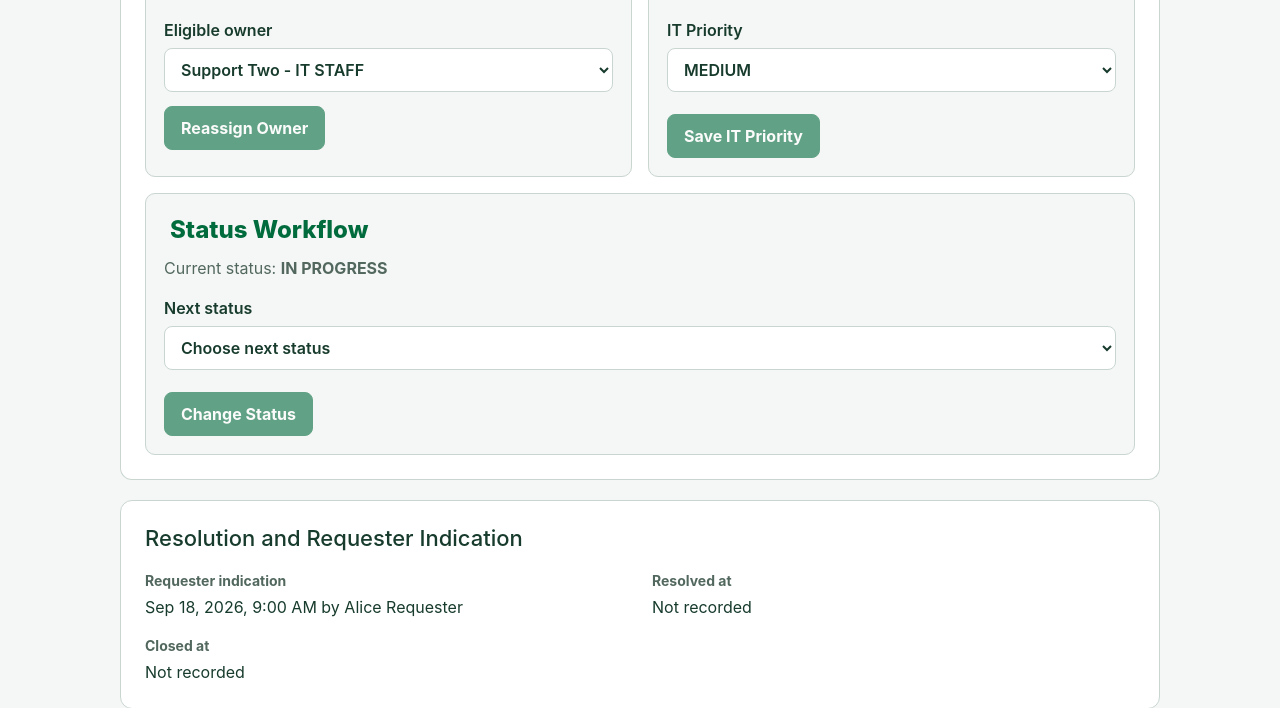
Scenario: UI-06 integrated Staff Ticket Detail › validates and confirms RESOLVED with the public Resolution Summary
The width and height of the screenshot is (1280, 708).
(page scrolled)
Select "RESOLVED" in the dropdown labelled "Next status" at (640, 348), box [164,326,1116,370]
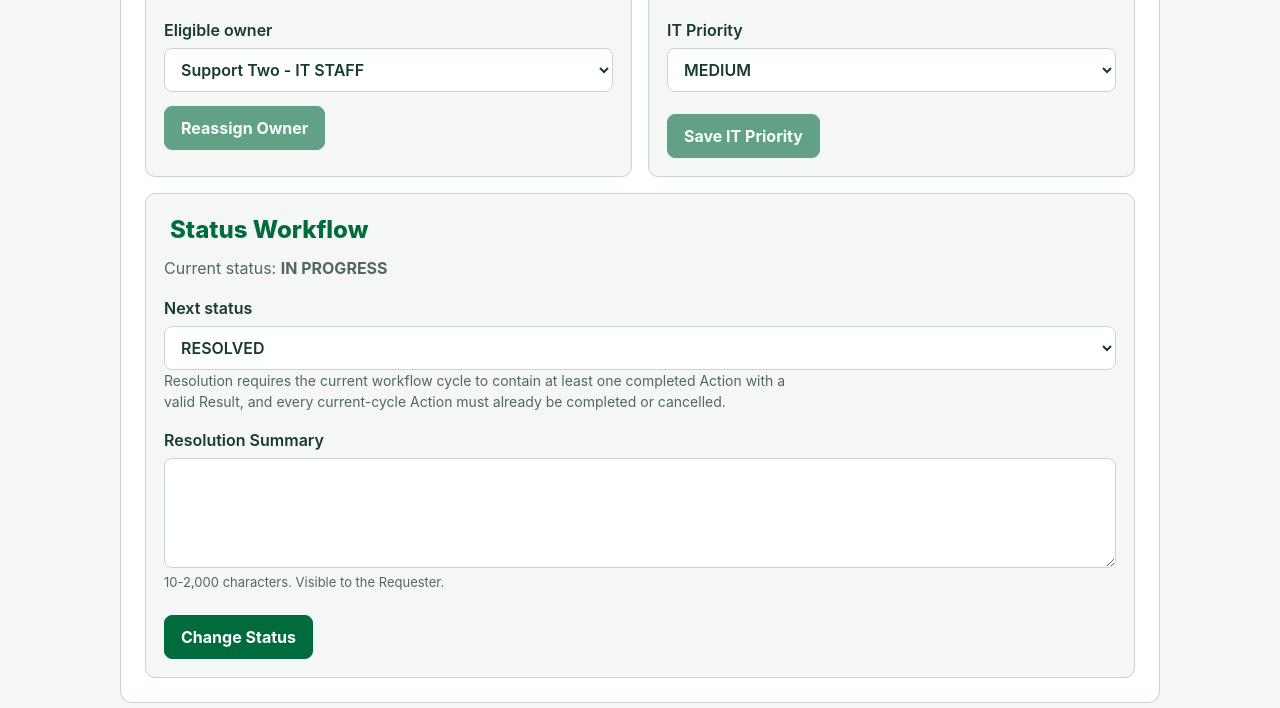
Type "short" into the text box labelled "Resolution Summary" at (640, 513), box [164,458,1116,568]
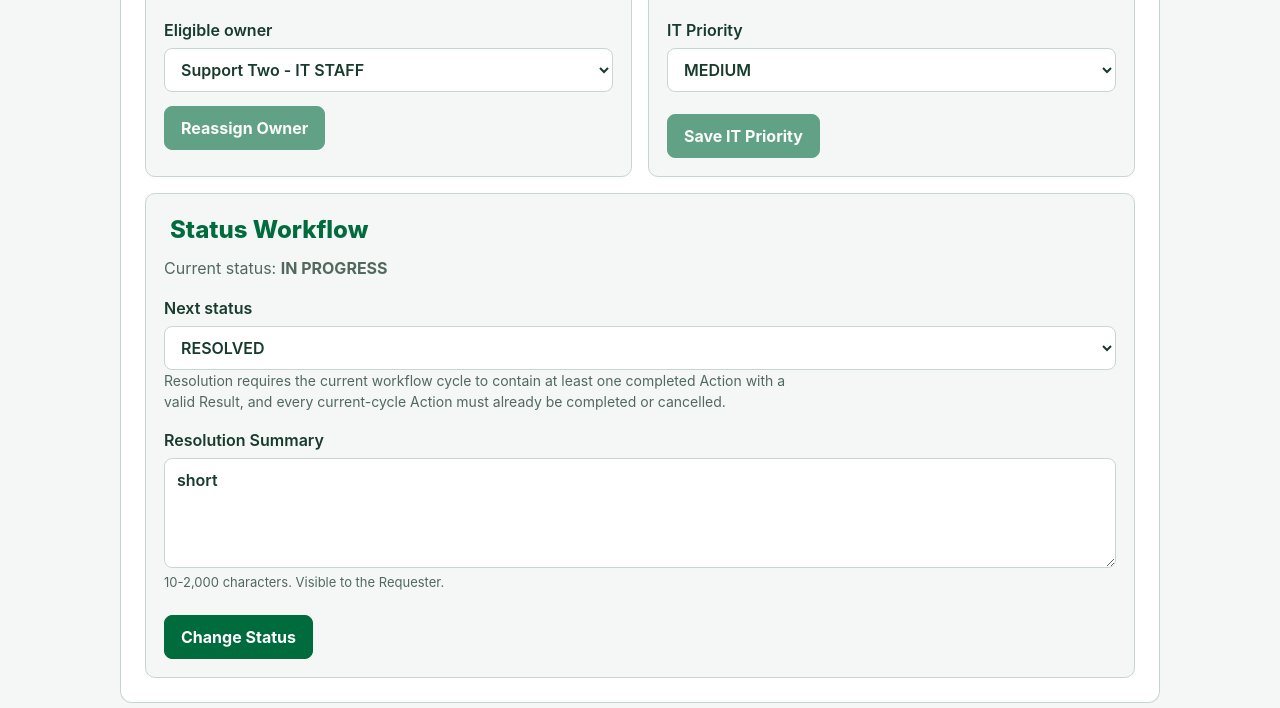
Click the button "Change Status" at (238, 637), box [164,615,313,659]
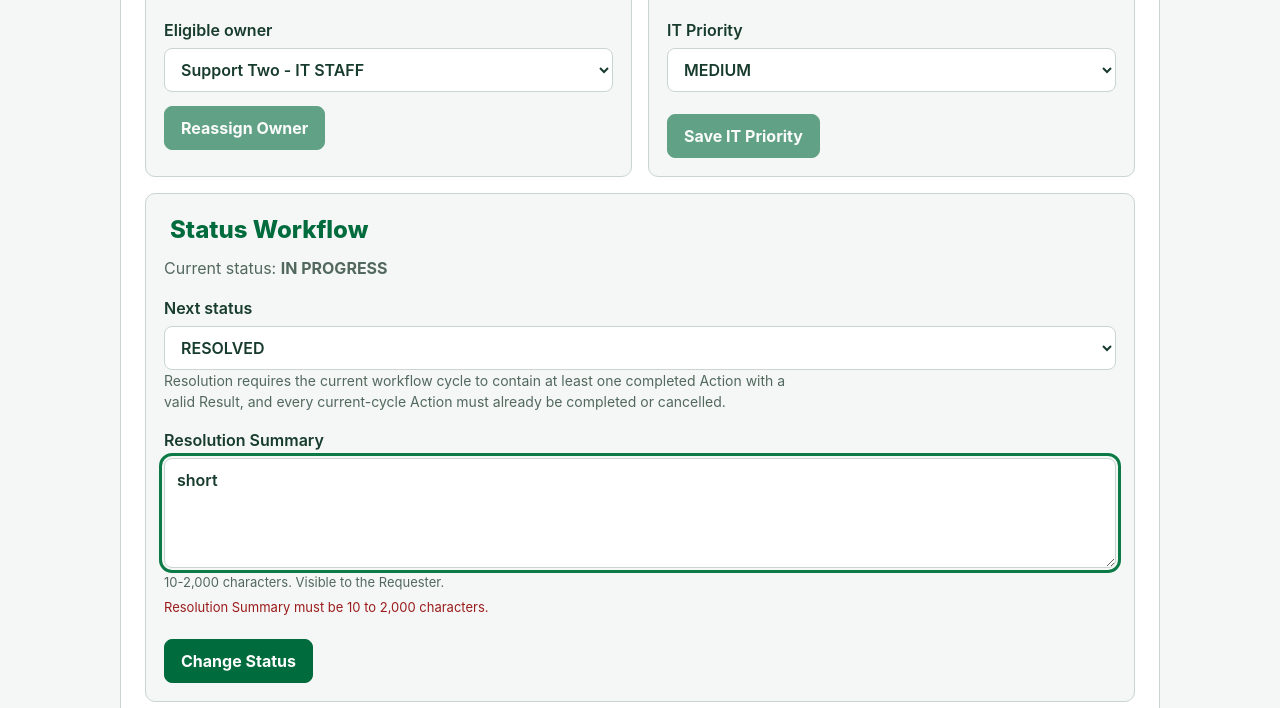
Result: the text "Resolution Summary must be 10 to 2,000 characters." is shown at [164,599,489,615]
Replace the text in the text box labelled "Resolution Summary" with "Root cause corrected and VPN profile refreshed." at (640, 513), box [164,458,1116,568]
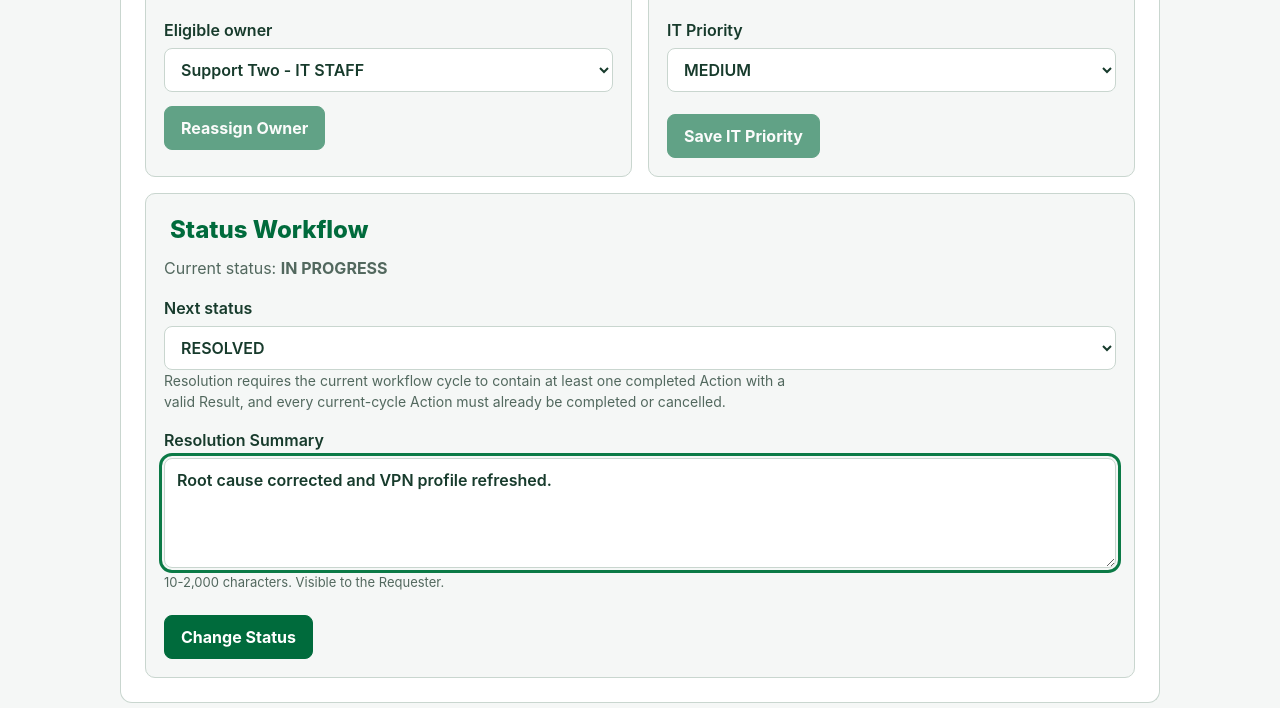
Click the button "Change Status" at (238, 637), box [164,615,313,659]
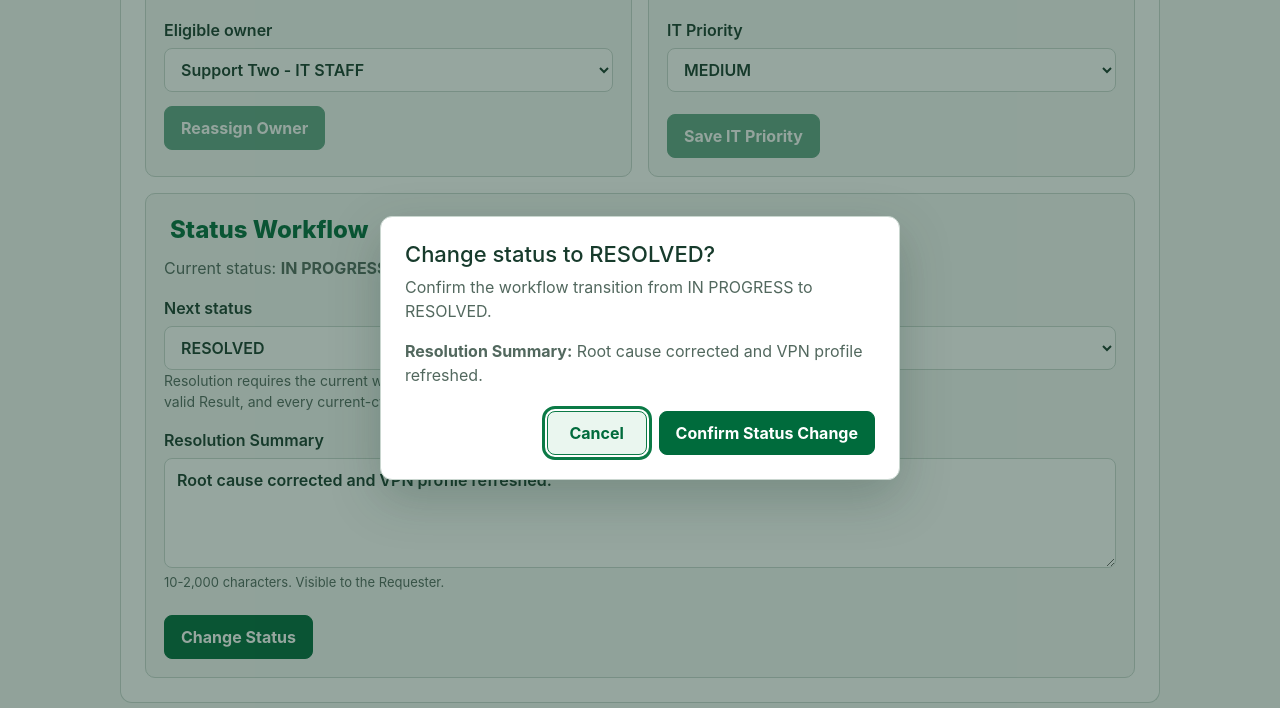
Result: the dialog shows "Change status to RESOLVED?" at [405,241,715,267]
Click the button "Confirm Status Change" at (767, 433), box [659,411,875,455]
(page scrolled)
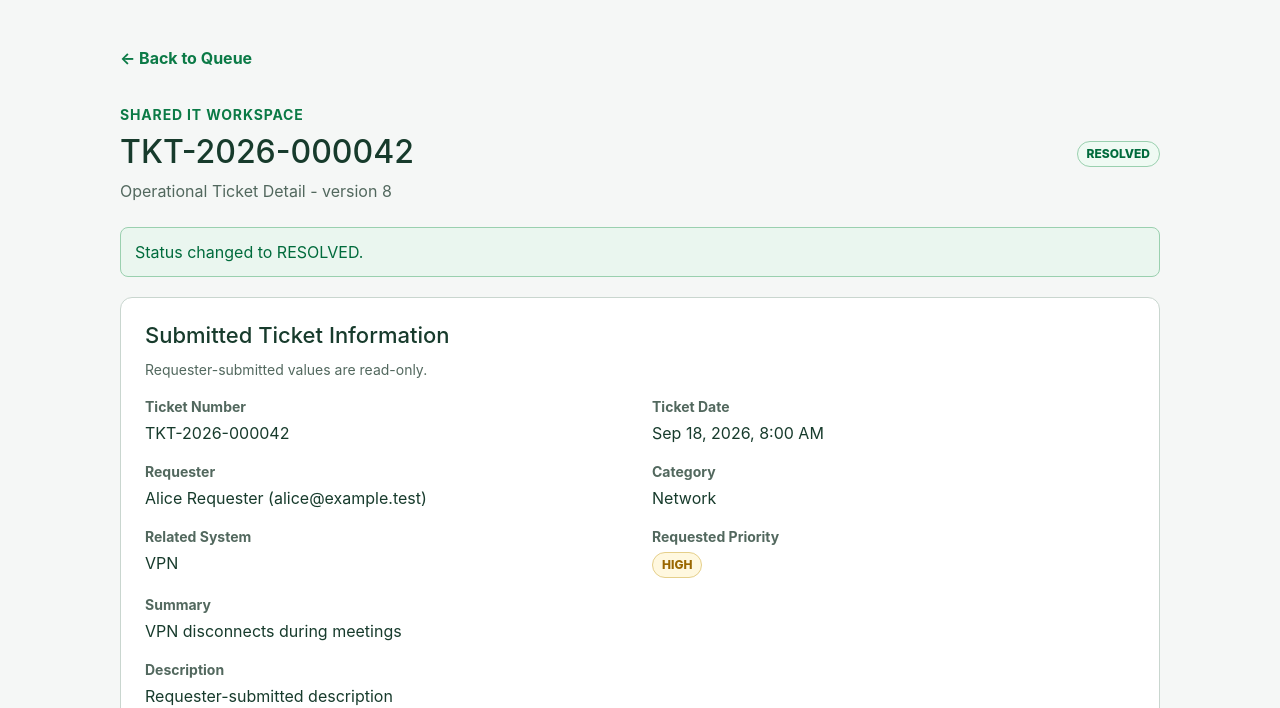
Result: the text "Status changed to RESOLVED." is shown at [120,227,1160,277]
